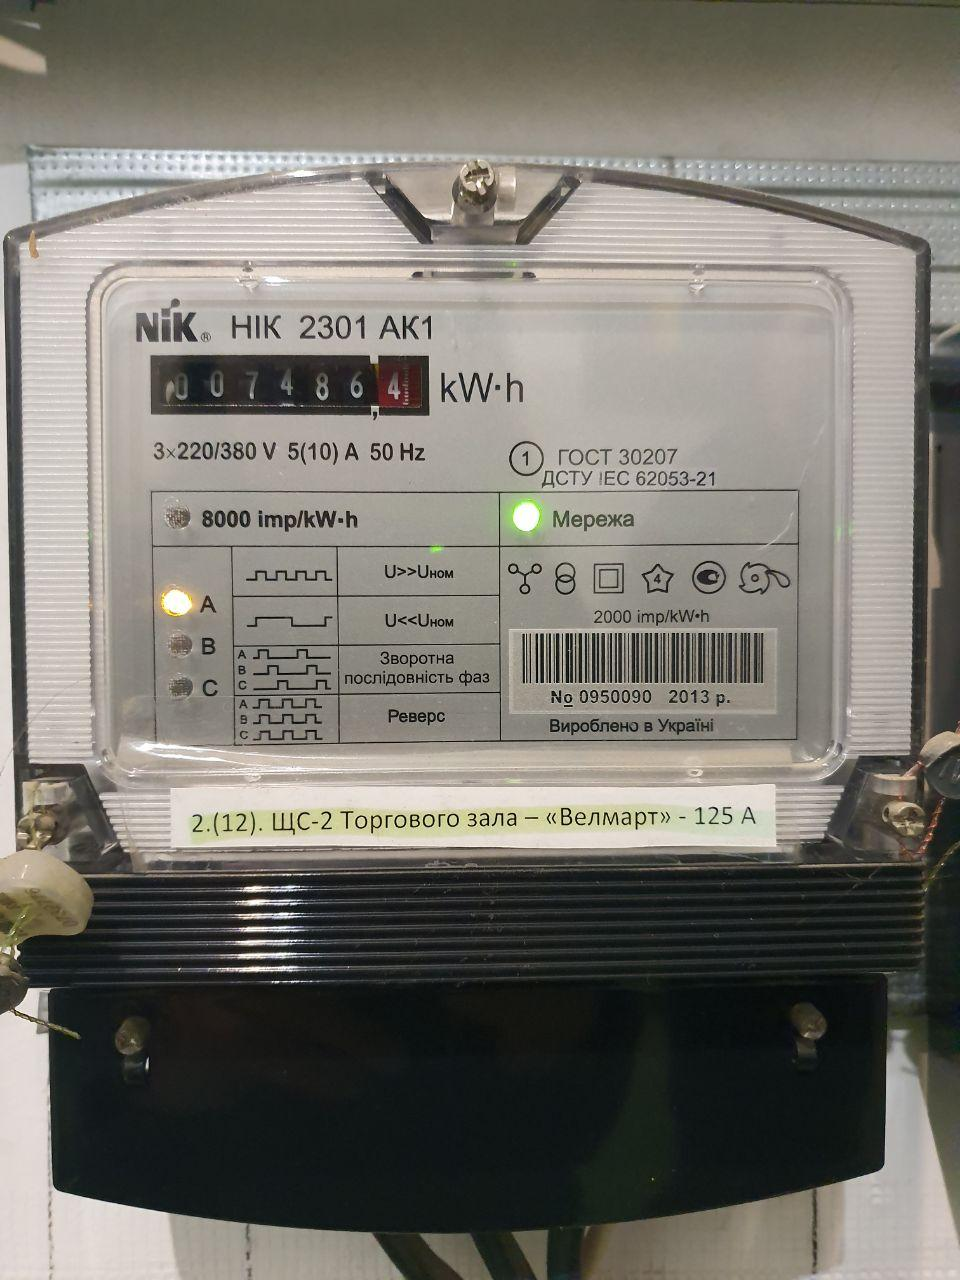0: (171, 369, 191, 403), (208, 367, 226, 400)
4: (277, 364, 295, 399), (385, 369, 402, 403)
6: (348, 369, 367, 401)
7: (240, 368, 263, 401)
8: (314, 370, 331, 405)
screen: (141, 344, 439, 428)
